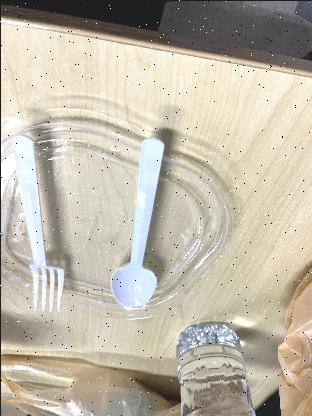Others: (100, 126, 176, 324), (98, 128, 174, 324), (16, 123, 60, 334)
